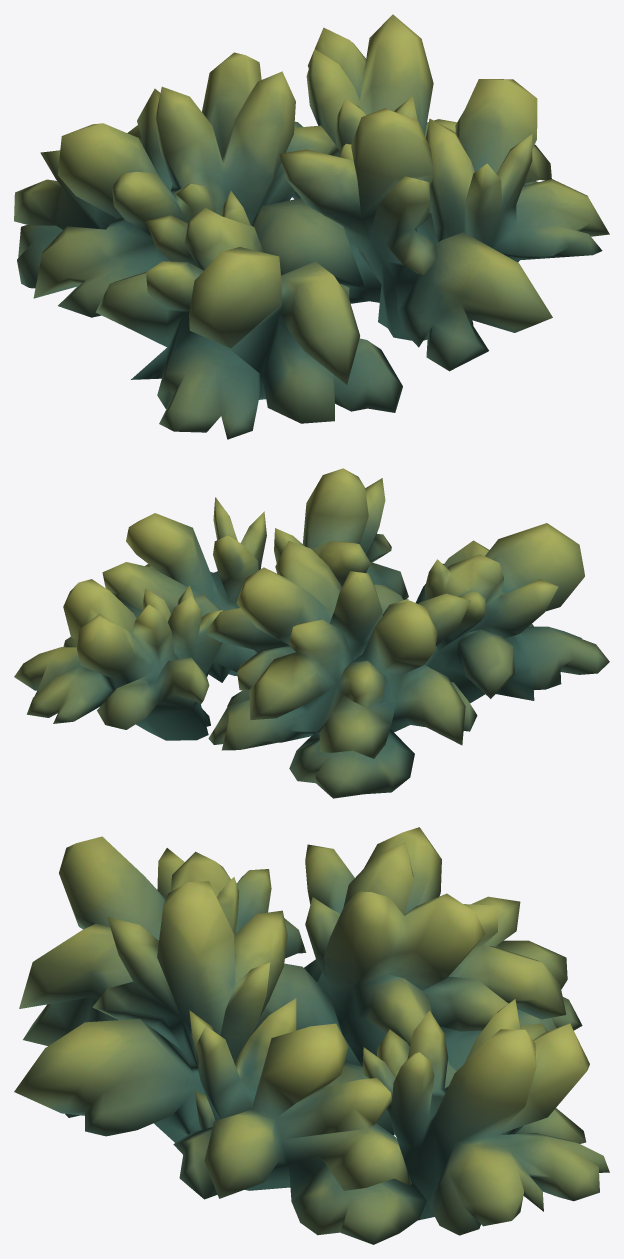
Rendered from bush-low.glb.
3 views of the same model, one above another, from view 1: azimuth 30°, elevation 25°; view 2: azimuth 150°, elevation 25°; view 3: azimuth 270°, elevation 25° (orthographic). The views are drawn at different scales.
Parts seen in each view (by area): view 1: tripo_node_cd9b5e3a-b012-4a12-a521-870b982e7897; view 2: tripo_node_cd9b5e3a-b012-4a12-a521-870b982e7897; view 3: tripo_node_cd9b5e3a-b012-4a12-a521-870b982e7897.
Part boxes in pixels (x1,y1,x2,y2): tripo_node_cd9b5e3a-b012-4a12-a521-870b982e7897: (14, 14, 609, 439); tripo_node_cd9b5e3a-b012-4a12-a521-870b982e7897: (14, 468, 609, 798); tripo_node_cd9b5e3a-b012-4a12-a521-870b982e7897: (14, 827, 609, 1244).
Size of the model in its own units: 1.05 by 0.5 by 0.9856.
Materials: 1 (1 with a texture image).
